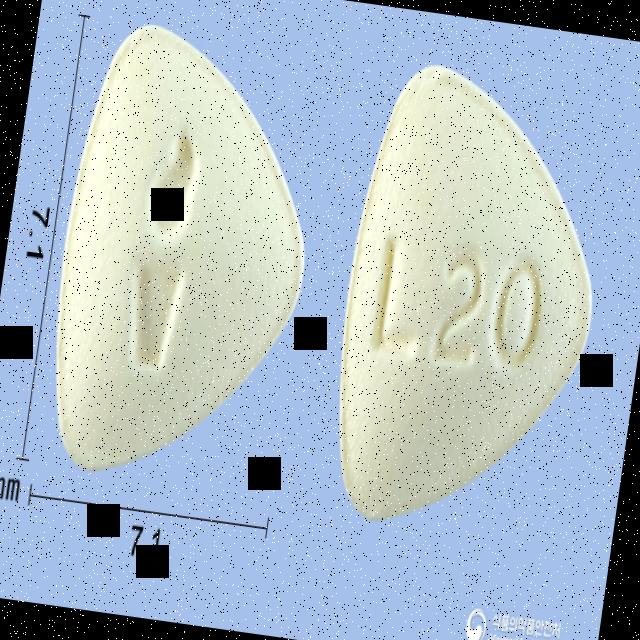Leflu - 10mg: (316, 52, 626, 550), (31, 13, 338, 498)
